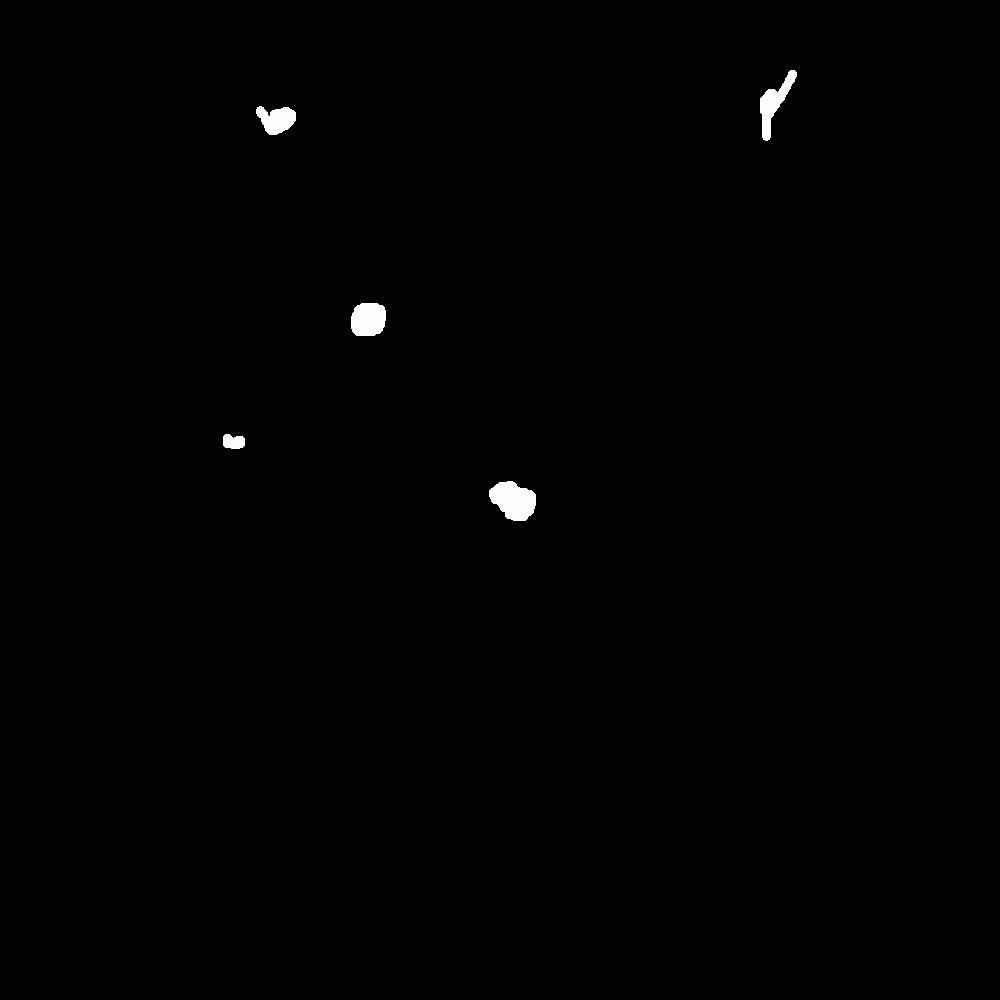illegal: (225, 83, 303, 133), (349, 294, 383, 330), (763, 83, 784, 135)
